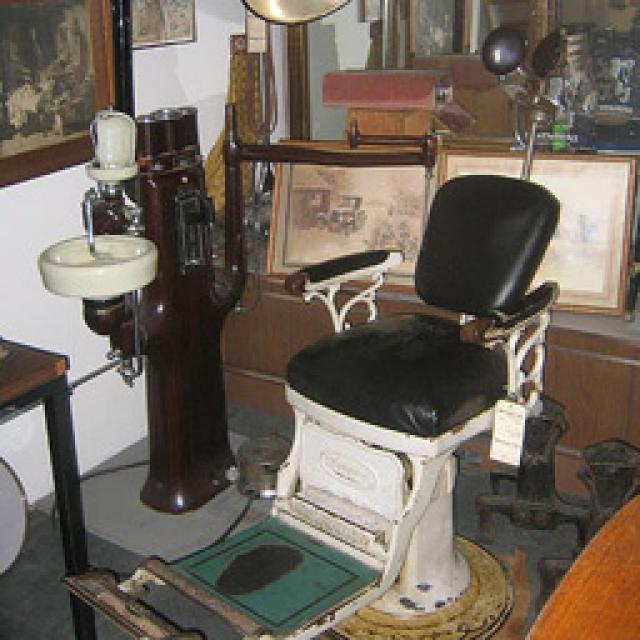armchair part: (58, 170, 558, 638)
auwiliary table crop: (0, 336, 92, 635)
floor -X: (0, 338, 638, 635)
lamp occluded: (238, 0, 342, 22)
wall clock: (295, 0, 638, 455)
washbasin: (35, 100, 430, 512)
